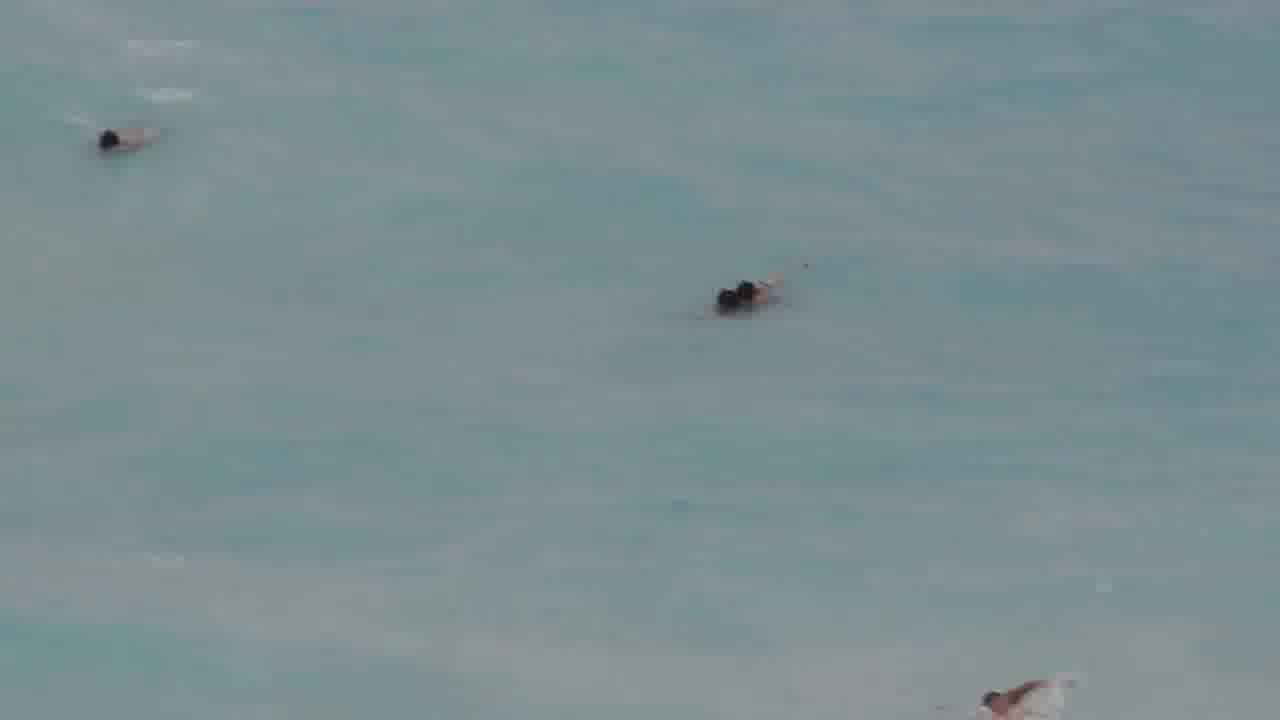human: (958, 677, 1082, 719), (88, 116, 153, 160), (737, 270, 801, 307), (698, 290, 748, 323)
